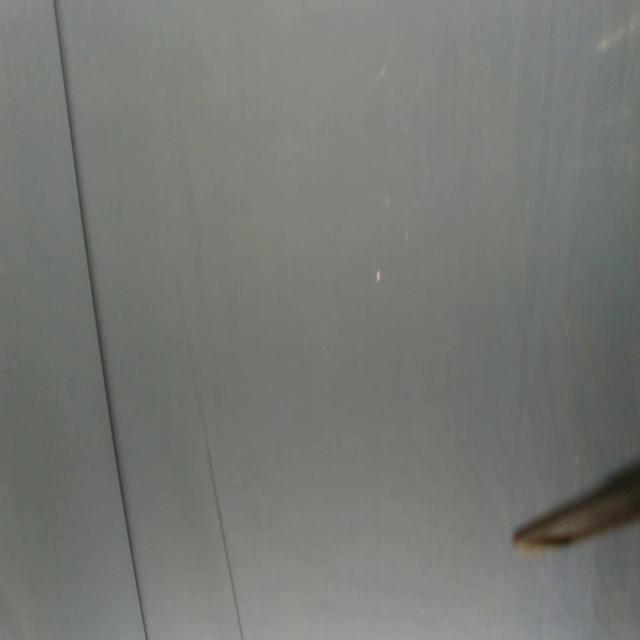crease: (52, 0, 146, 640), (176, 287, 245, 640)
hole: (382, 194, 392, 214), (375, 269, 384, 286), (404, 226, 409, 246)
